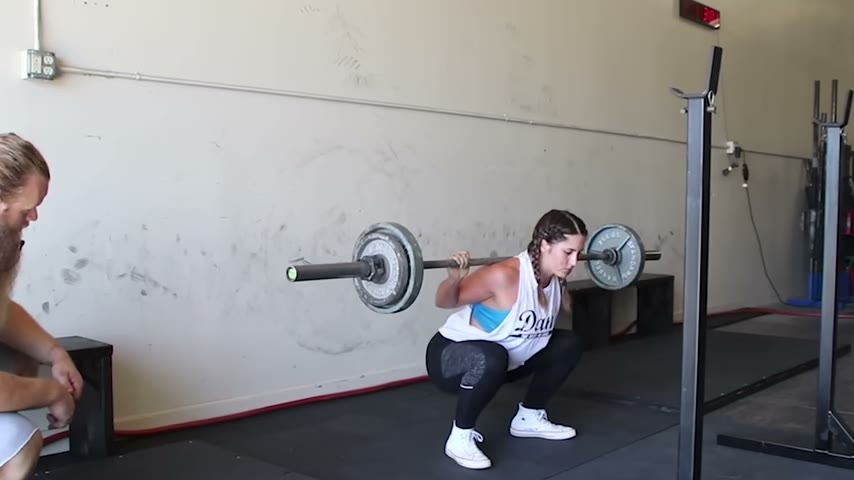barbell_plate_side: (281, 197, 391, 329), (582, 213, 666, 295)
